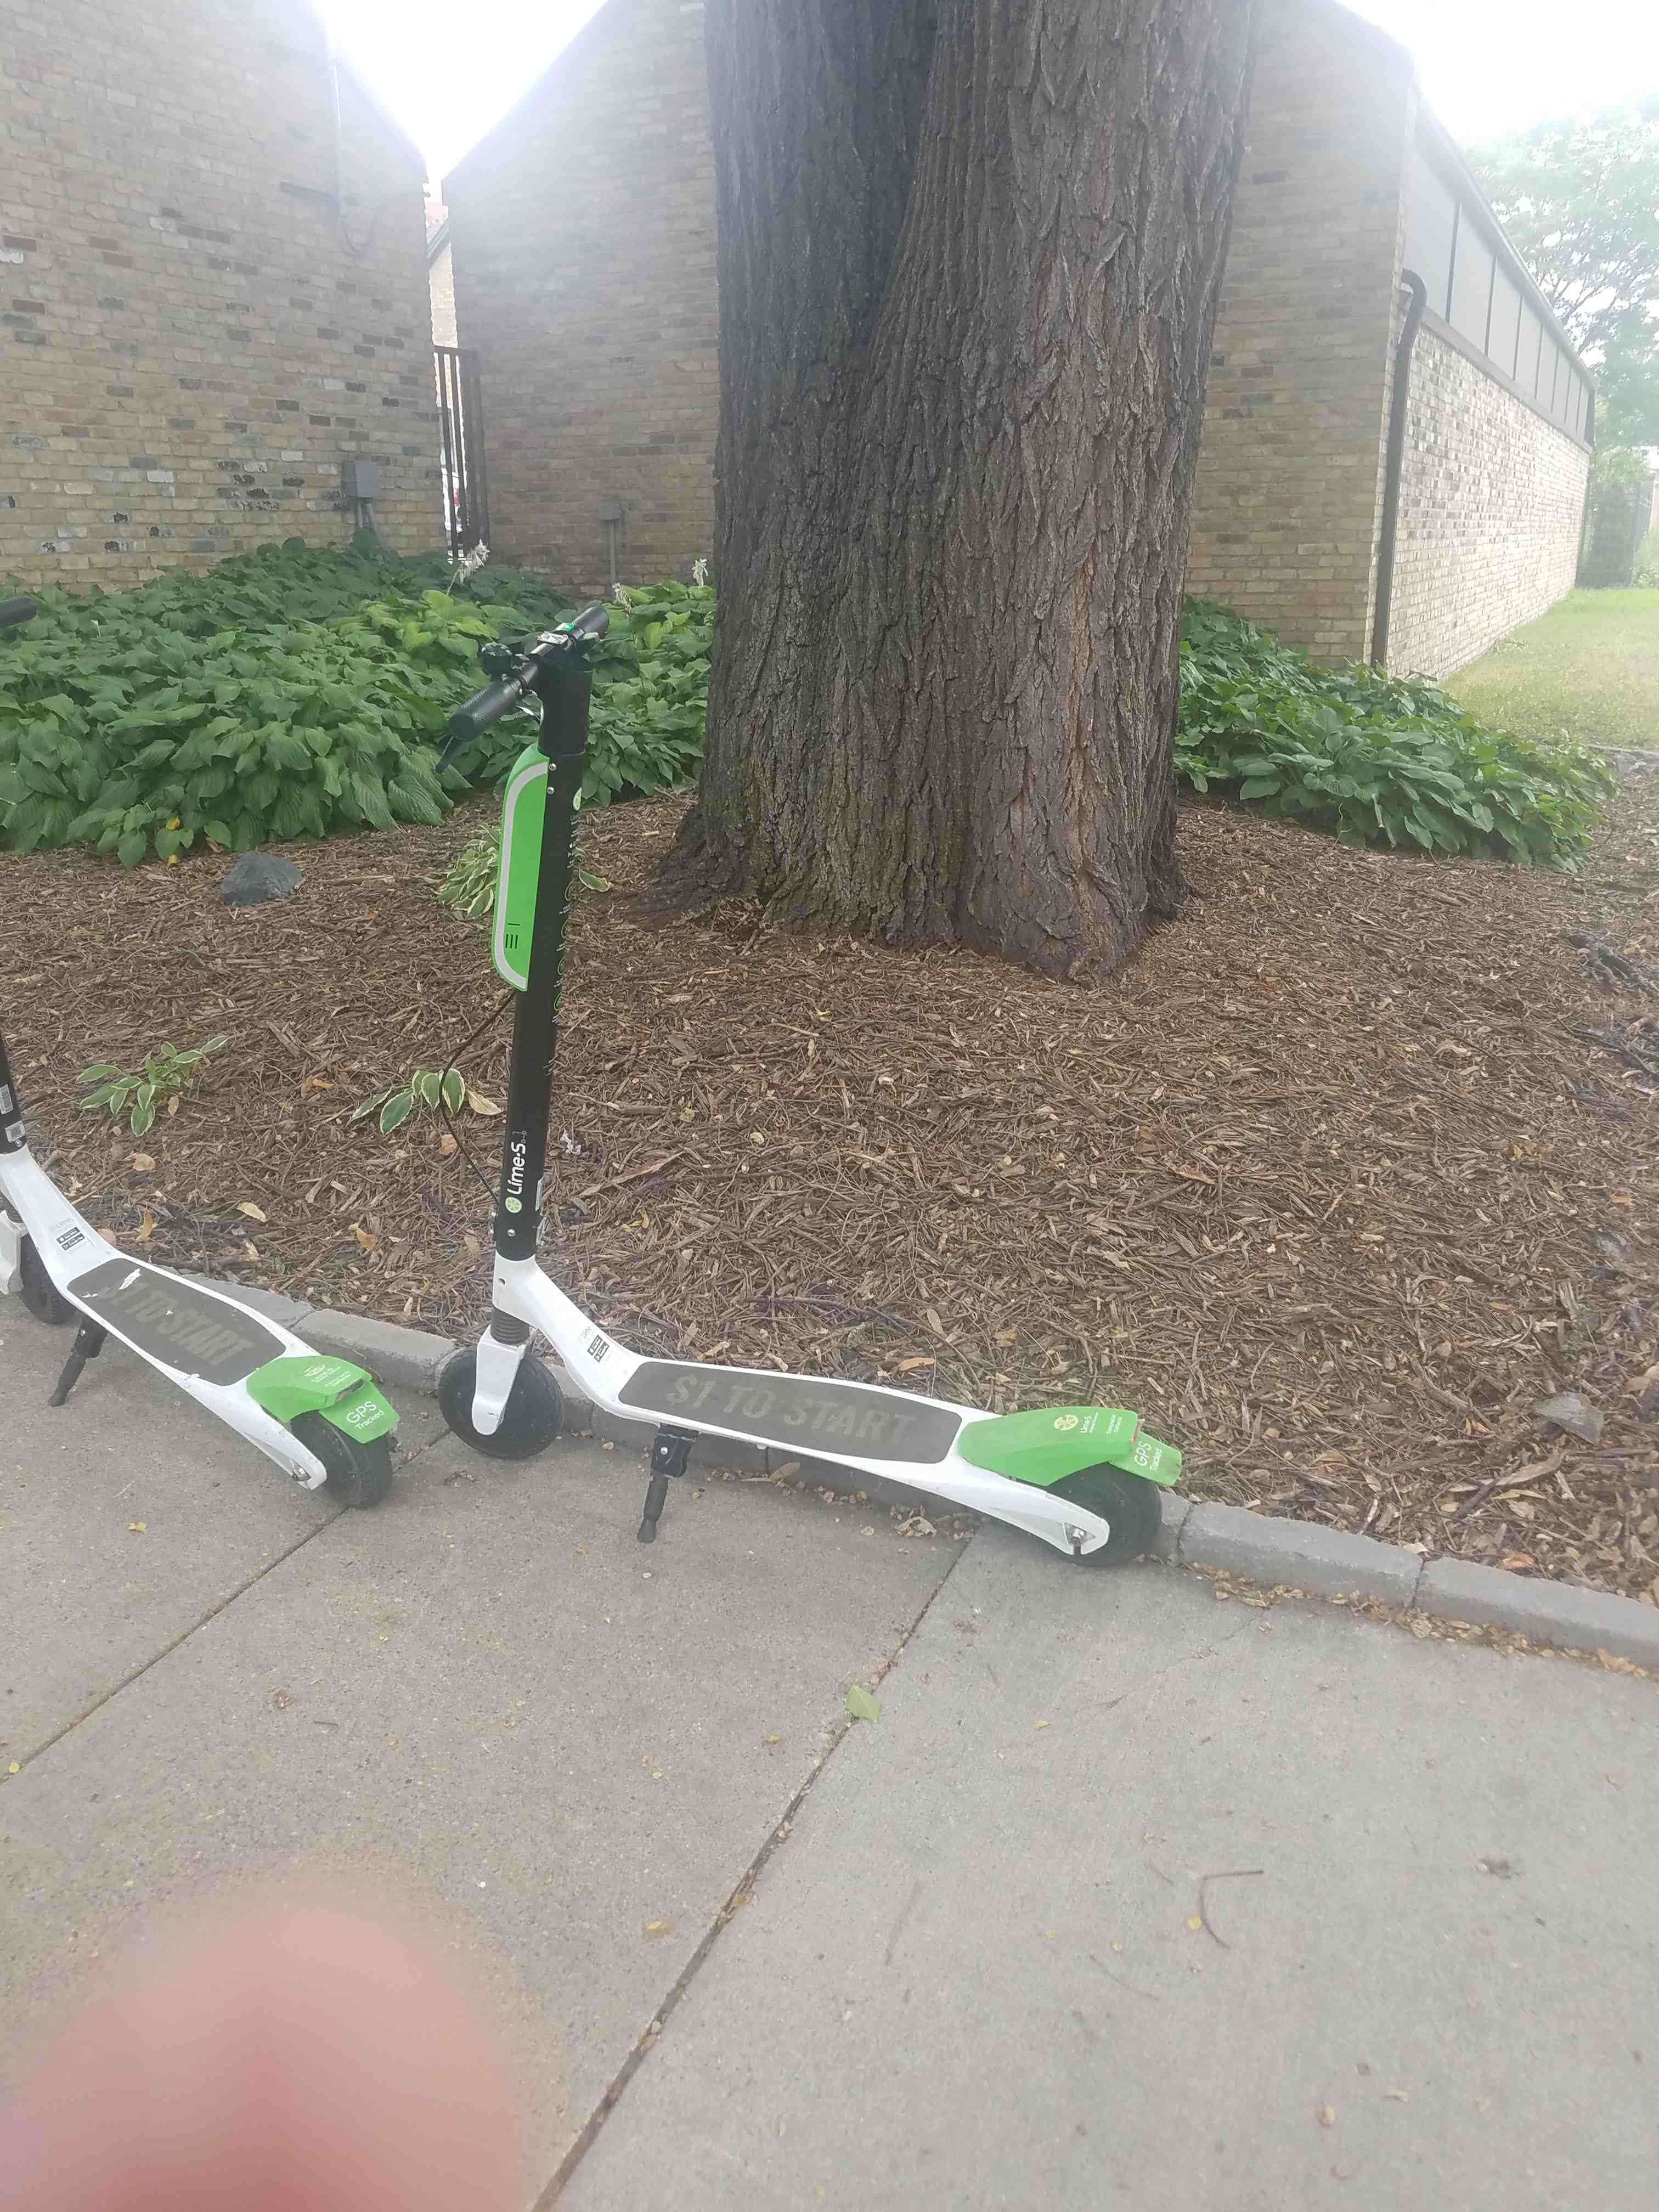scooter: (403, 563, 1199, 1588)
